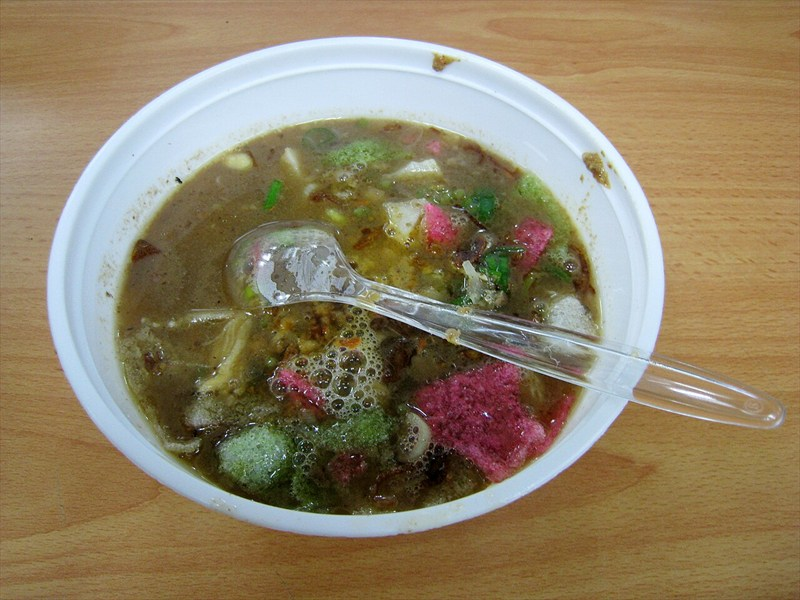Soto Ayam: (57, 34, 668, 536)
